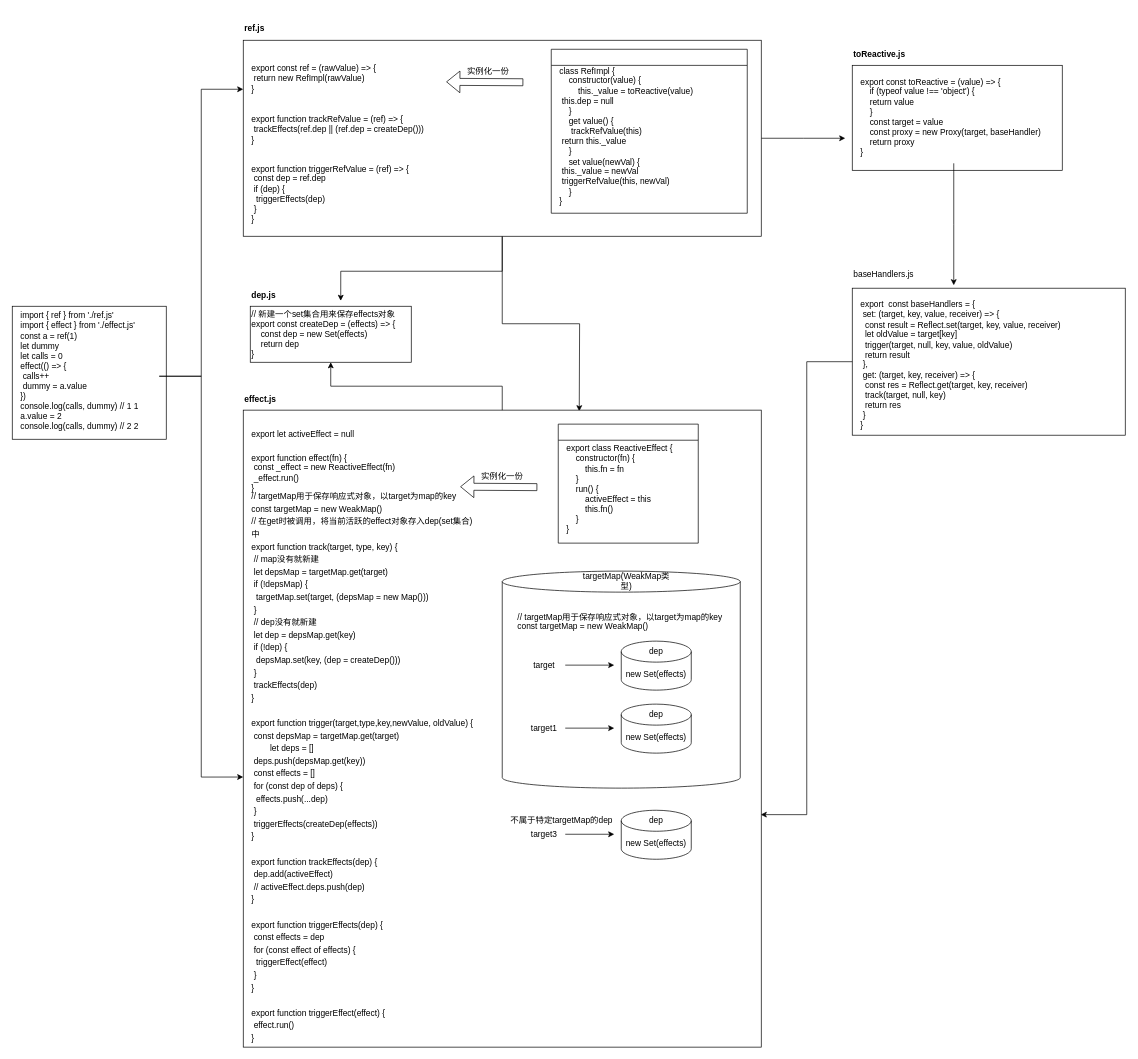
This 1138x1059 diagram has some shape labels left out. Each missing label, with the box of its shape:
ReactiveEffect类: (558, 423, 698, 543)
RefImpl类: (551, 49, 747, 213)
